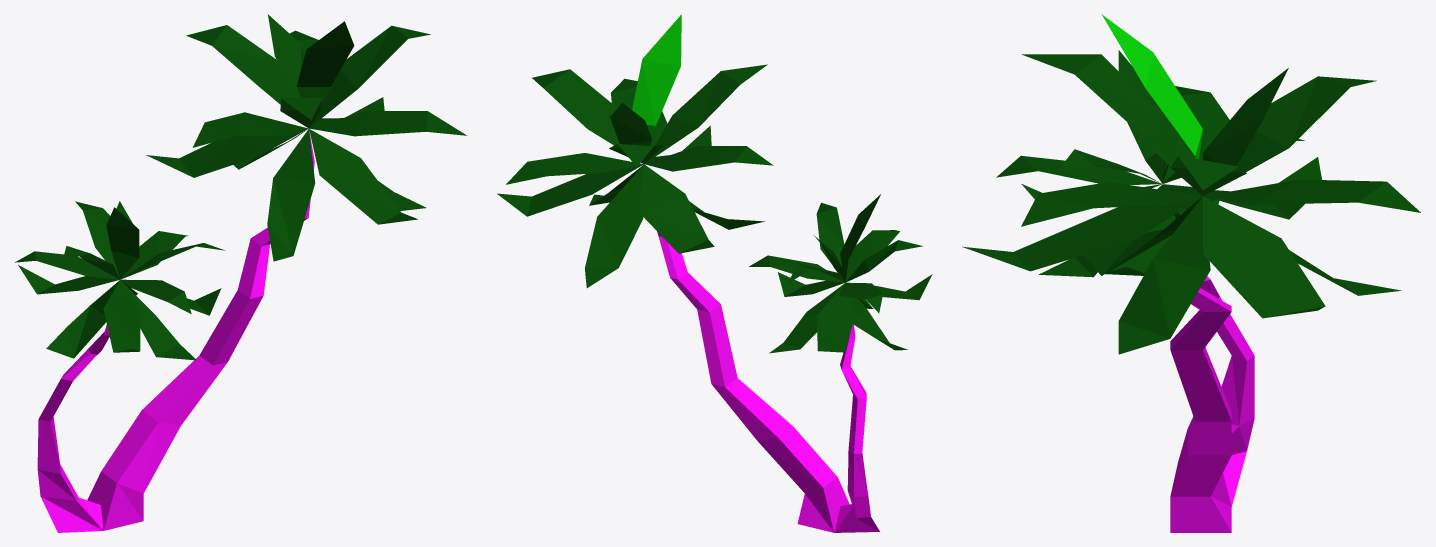
Rendered from jungle medium size plant.obj.
3 renders of one model, left to right at view 1: azimuth 30°, elevation 25°; view 2: azimuth 150°, elevation 25°; view 3: azimuth 270°, elevation 25°, orthographic. The views are drawn at different scales.
Parts seen in each view (by area): view 1: jungle medium size plant_back; view 2: jungle medium size plant_back, jungle medium size plant_front; view 3: jungle medium size plant_back, jungle medium size plant_front.
Part boxes in pixels (box(x1,y1,x2,y2)): jungle medium size plant_back: box(15, 14, 467, 532); jungle medium size plant_back: box(497, 64, 932, 532); jungle medium size plant_front: box(632, 14, 681, 138); jungle medium size plant_back: box(962, 50, 1420, 532); jungle medium size plant_front: box(1101, 14, 1202, 159).
Bounding box in the file's own units: 3.18 × 3.64 × 2.4.
